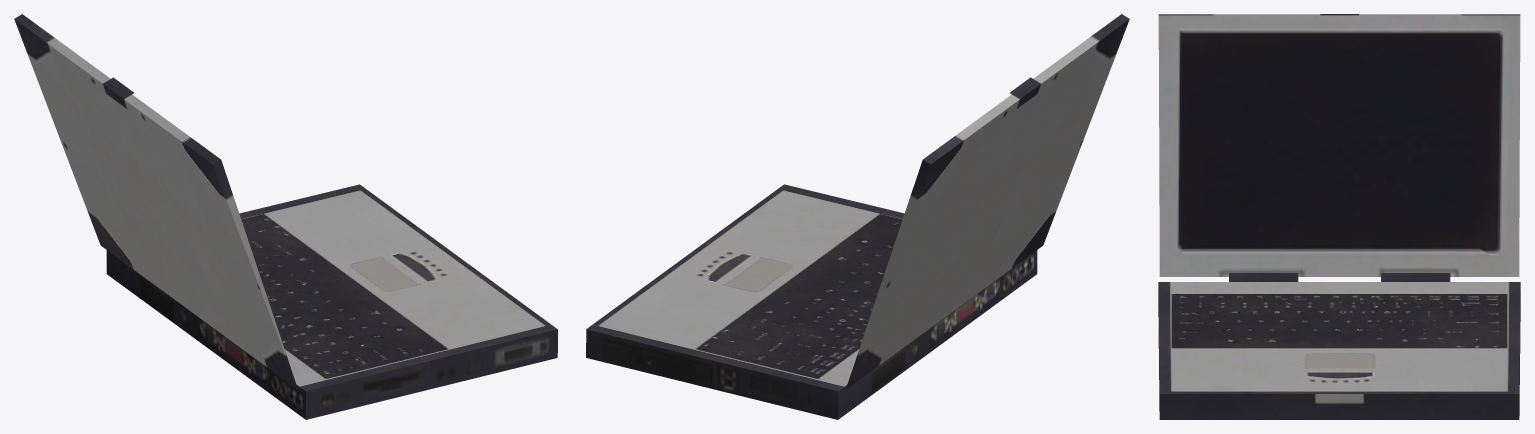
Rendered from com_laptop_open_lod2.glb.
The picture shows the model from 3 angles, left to right: view 1: azimuth 30°, elevation 25°; view 2: azimuth 150°, elevation 25°; view 3: azimuth 270°, elevation 25°; orthographic projection. The views are drawn at different scales.
Parts seen in each view (by area): view 1: surf0; view 2: surf0; view 3: surf0.
Boxes of the visible parts, left/top/right/bottom form: surf0: left=14, top=14, right=557, bottom=419; surf0: left=586, top=14, right=1129, bottom=419; surf0: left=1158, top=14, right=1520, bottom=419.
Bounding box in the file's own units: 18.91 × 14.75 × 18.9.
